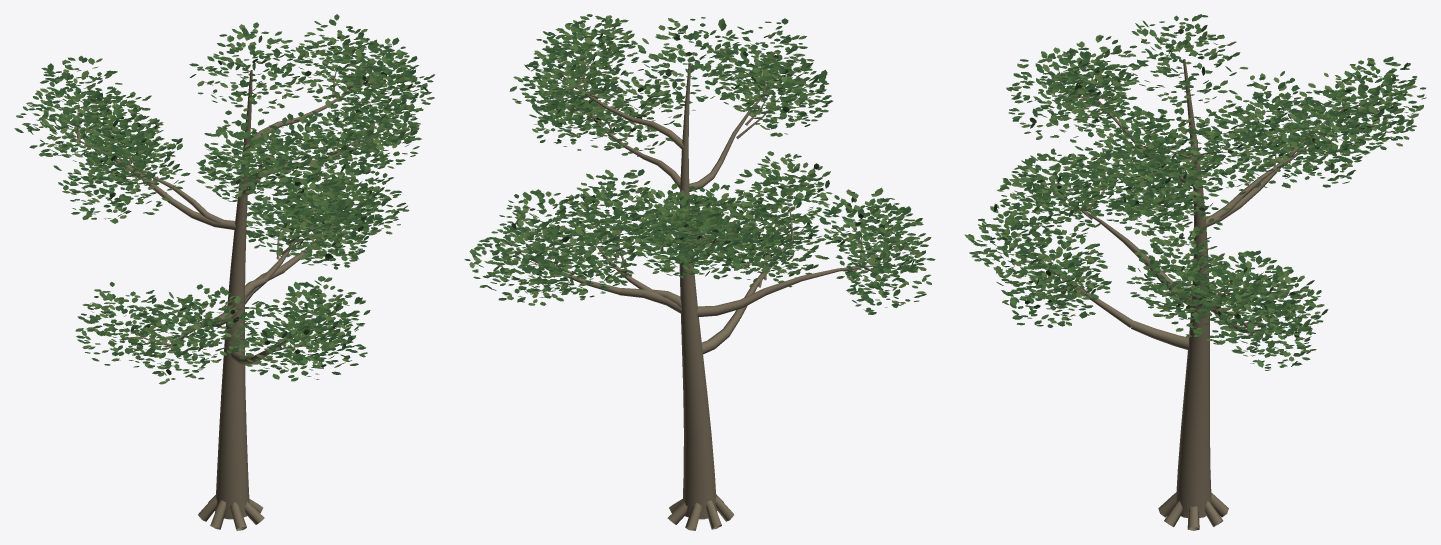
File: Chene_Ancien_0_High.fbx
3 views of the same model, side by side, from view 1: azimuth 30°, elevation 25°; view 2: azimuth 150°, elevation 25°; view 3: azimuth 270°, elevation 25° (orthographic). The views are drawn at different scales.
Parts seen in each view (by area): view 1: Chene_Ancien_0_High; view 2: Chene_Ancien_0_High; view 3: Chene_Ancien_0_High.
Part boxes in pixels (x1,y1,x2,y2): Chene_Ancien_0_High: (14,14,434,530); Chene_Ancien_0_High: (464,14,935,530); Chene_Ancien_0_High: (964,14,1426,530).
Bounding box in the file's own units: 796 × 973 × 804.
